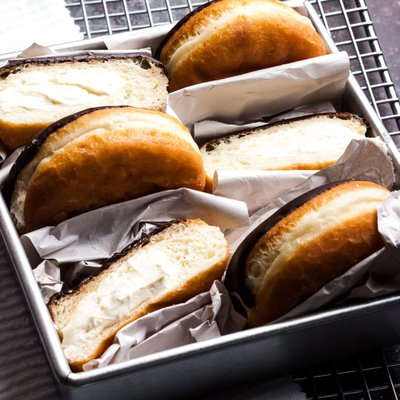soup: (46, 218, 231, 372), (4, 105, 214, 235), (0, 50, 169, 153)
